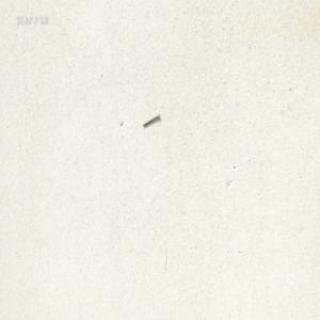Bolttrack_idkeyframe: (141, 112, 159, 128)
